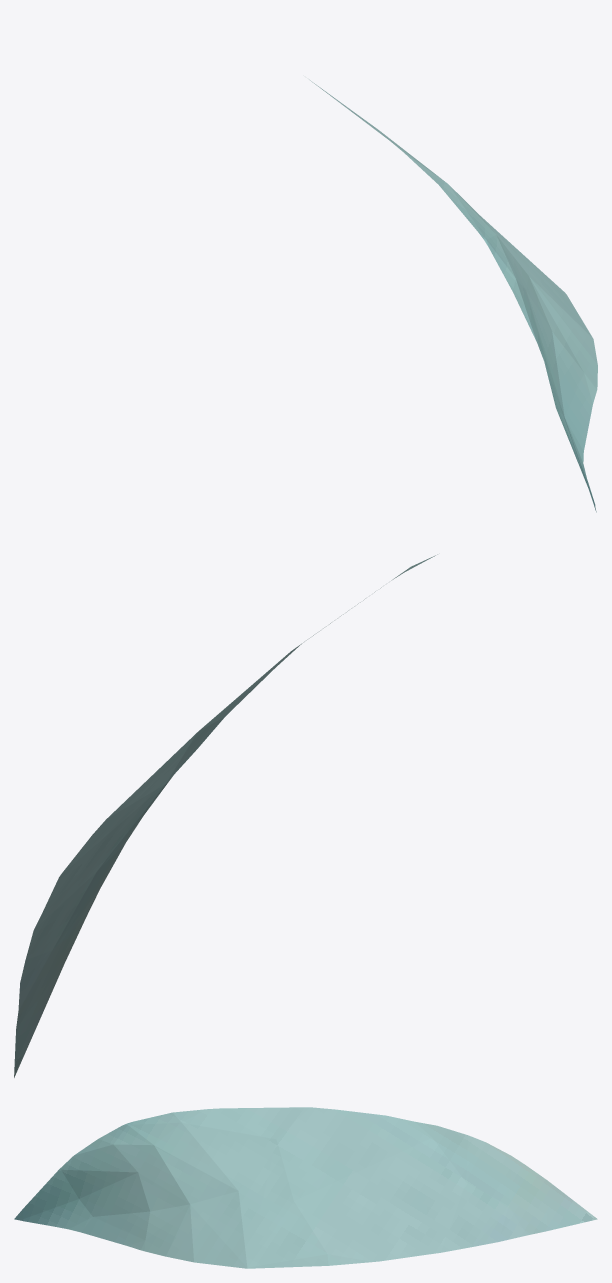
The picture shows the model from 3 angles, top to bottom: view 1: azimuth 30°, elevation 25°; view 2: azimuth 150°, elevation 25°; view 3: azimuth 270°, elevation 25°; orthographic projection. The views are drawn at different scales.
Size of the model in its own units: 11.3 by 11.94 by 56.38.
1 material, 1 textured.
